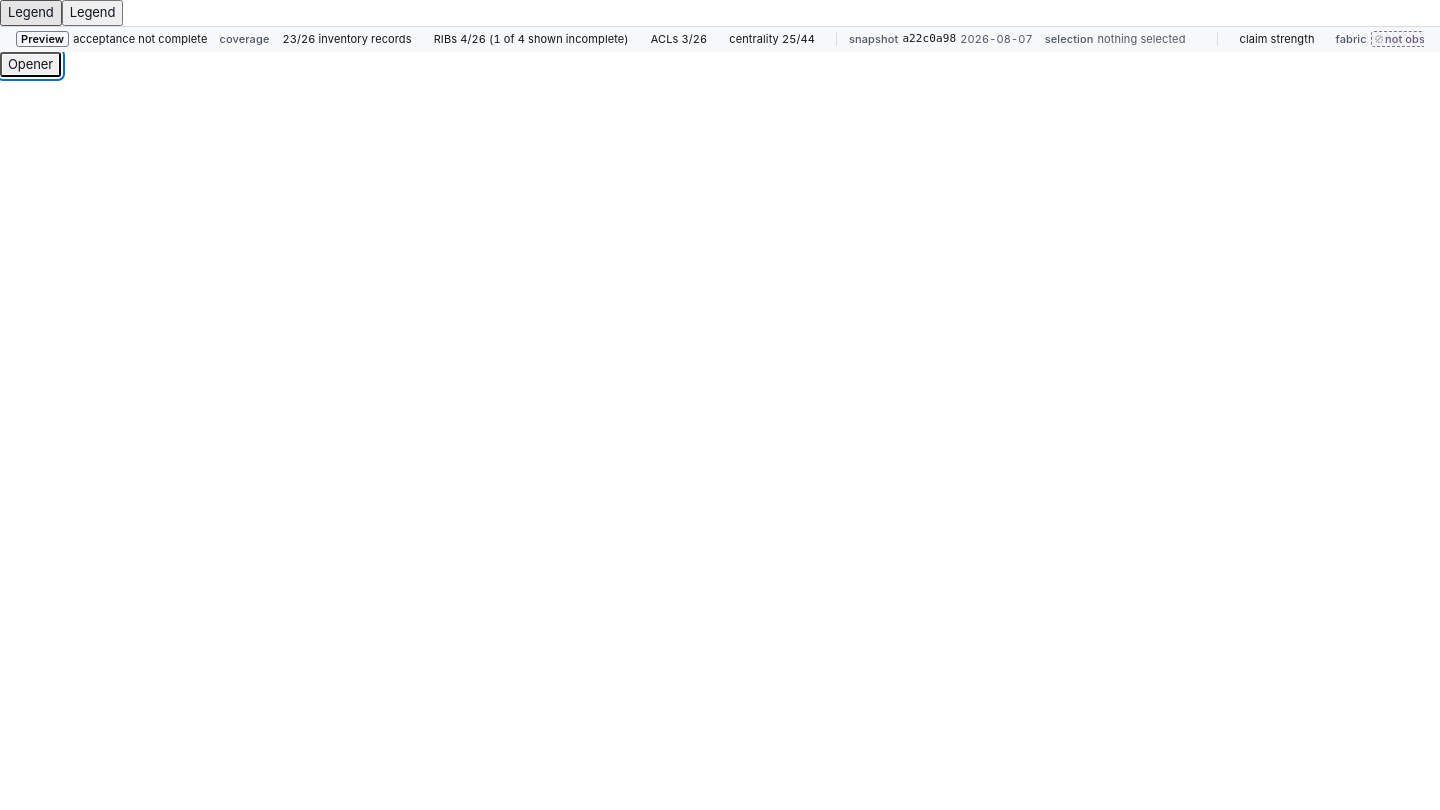
Test case: coverage disclosure focus-out › closing it gives focus to the bar's landmark, never <body>, when the opener has unmounted (D3)
The width and height of the screenshot is (1440, 810).
Click the button "23/26 inventory records" at (347, 39), box [274, 27, 421, 51]
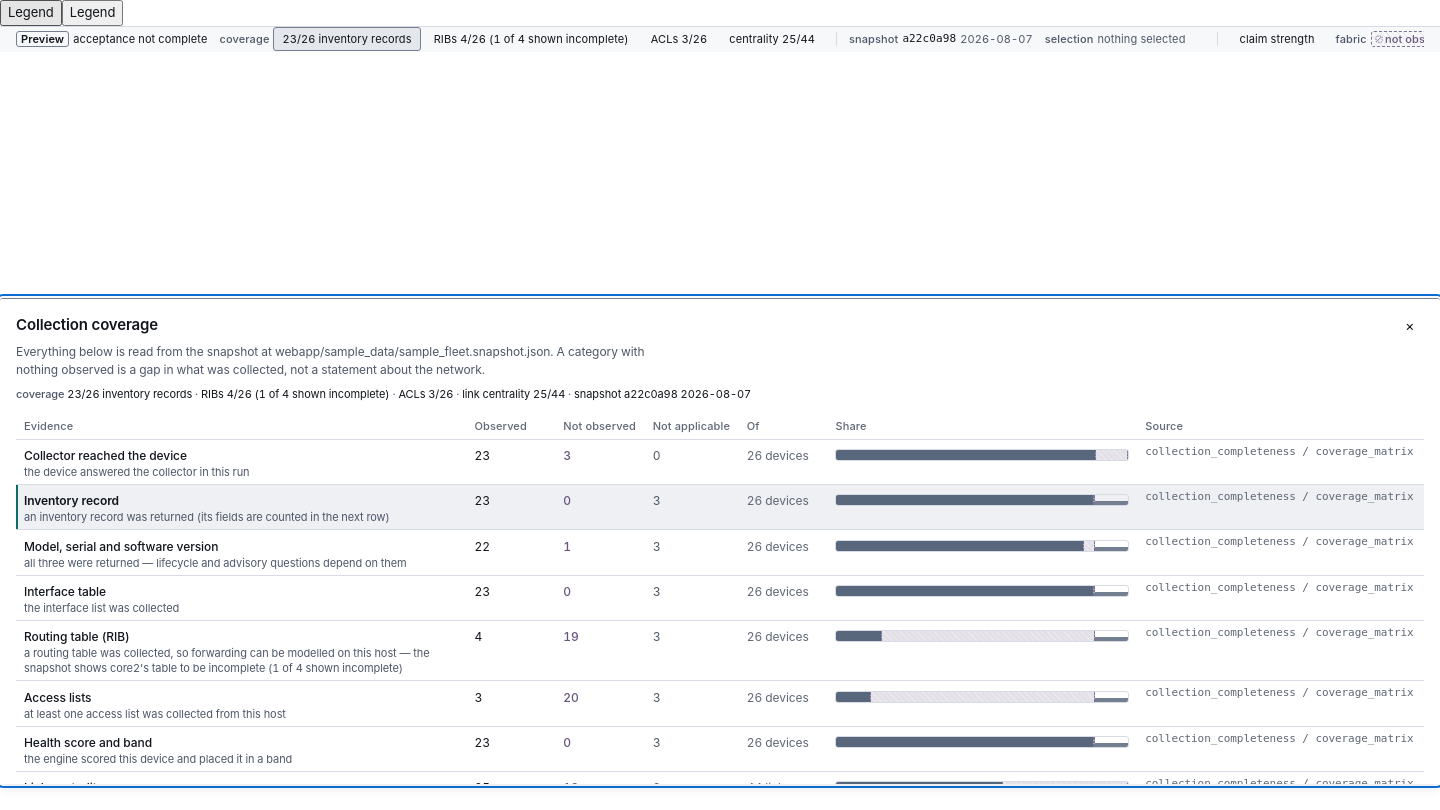
Result: the dialog with class "covpanel" is shown at [0, 298, 1439, 784]
Click the button named "Close the coverage disclosure" at (1410, 327), box [1396, 315, 1424, 339]
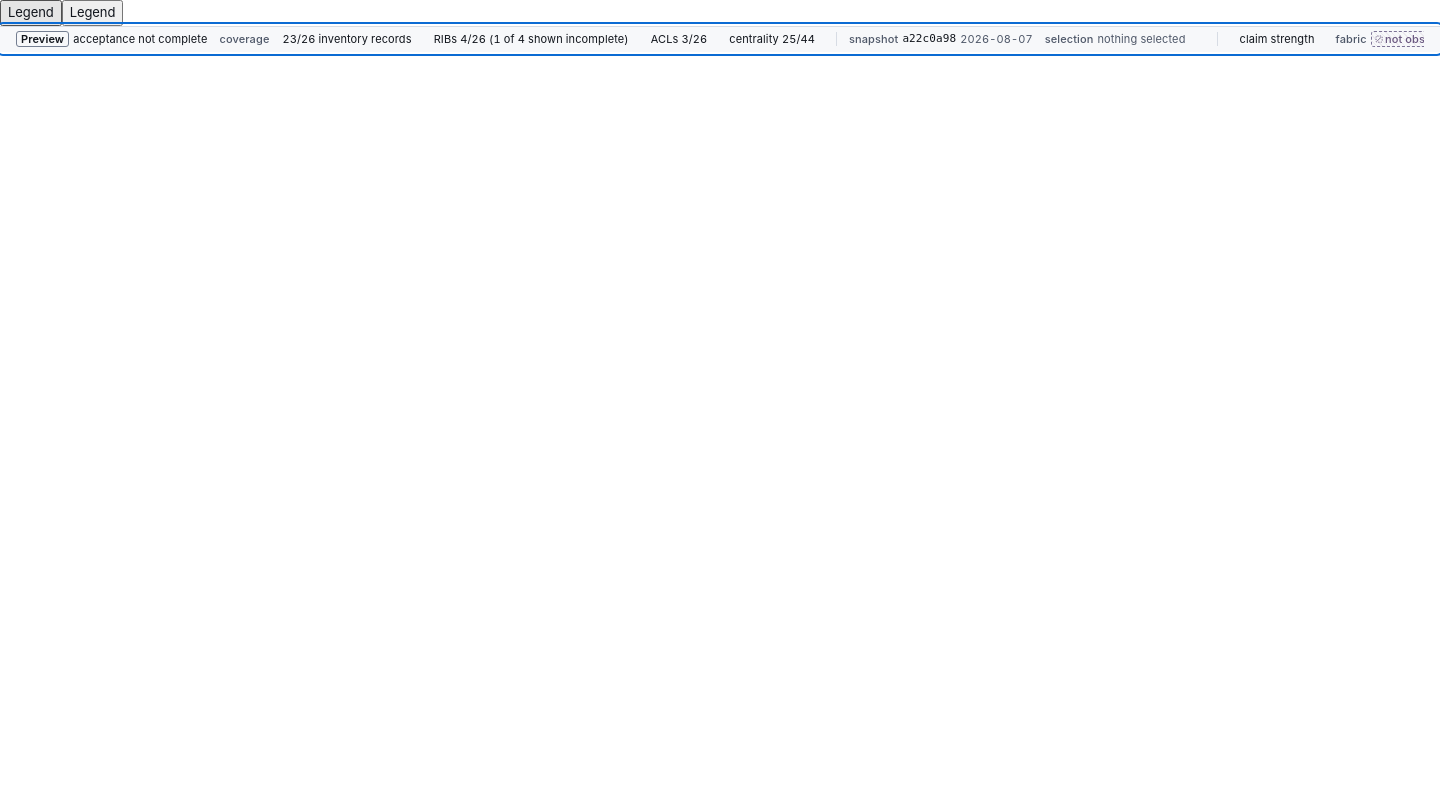
Result: the dialog with class "covpanel" is gone
